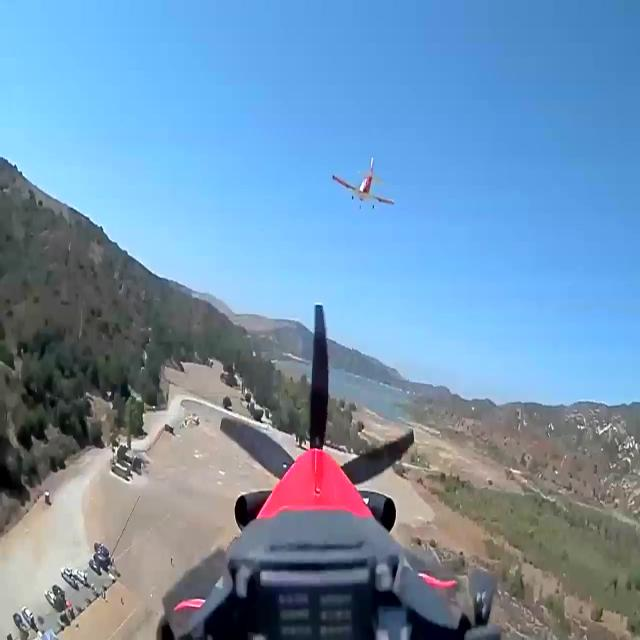iha: (332, 158, 395, 214)
